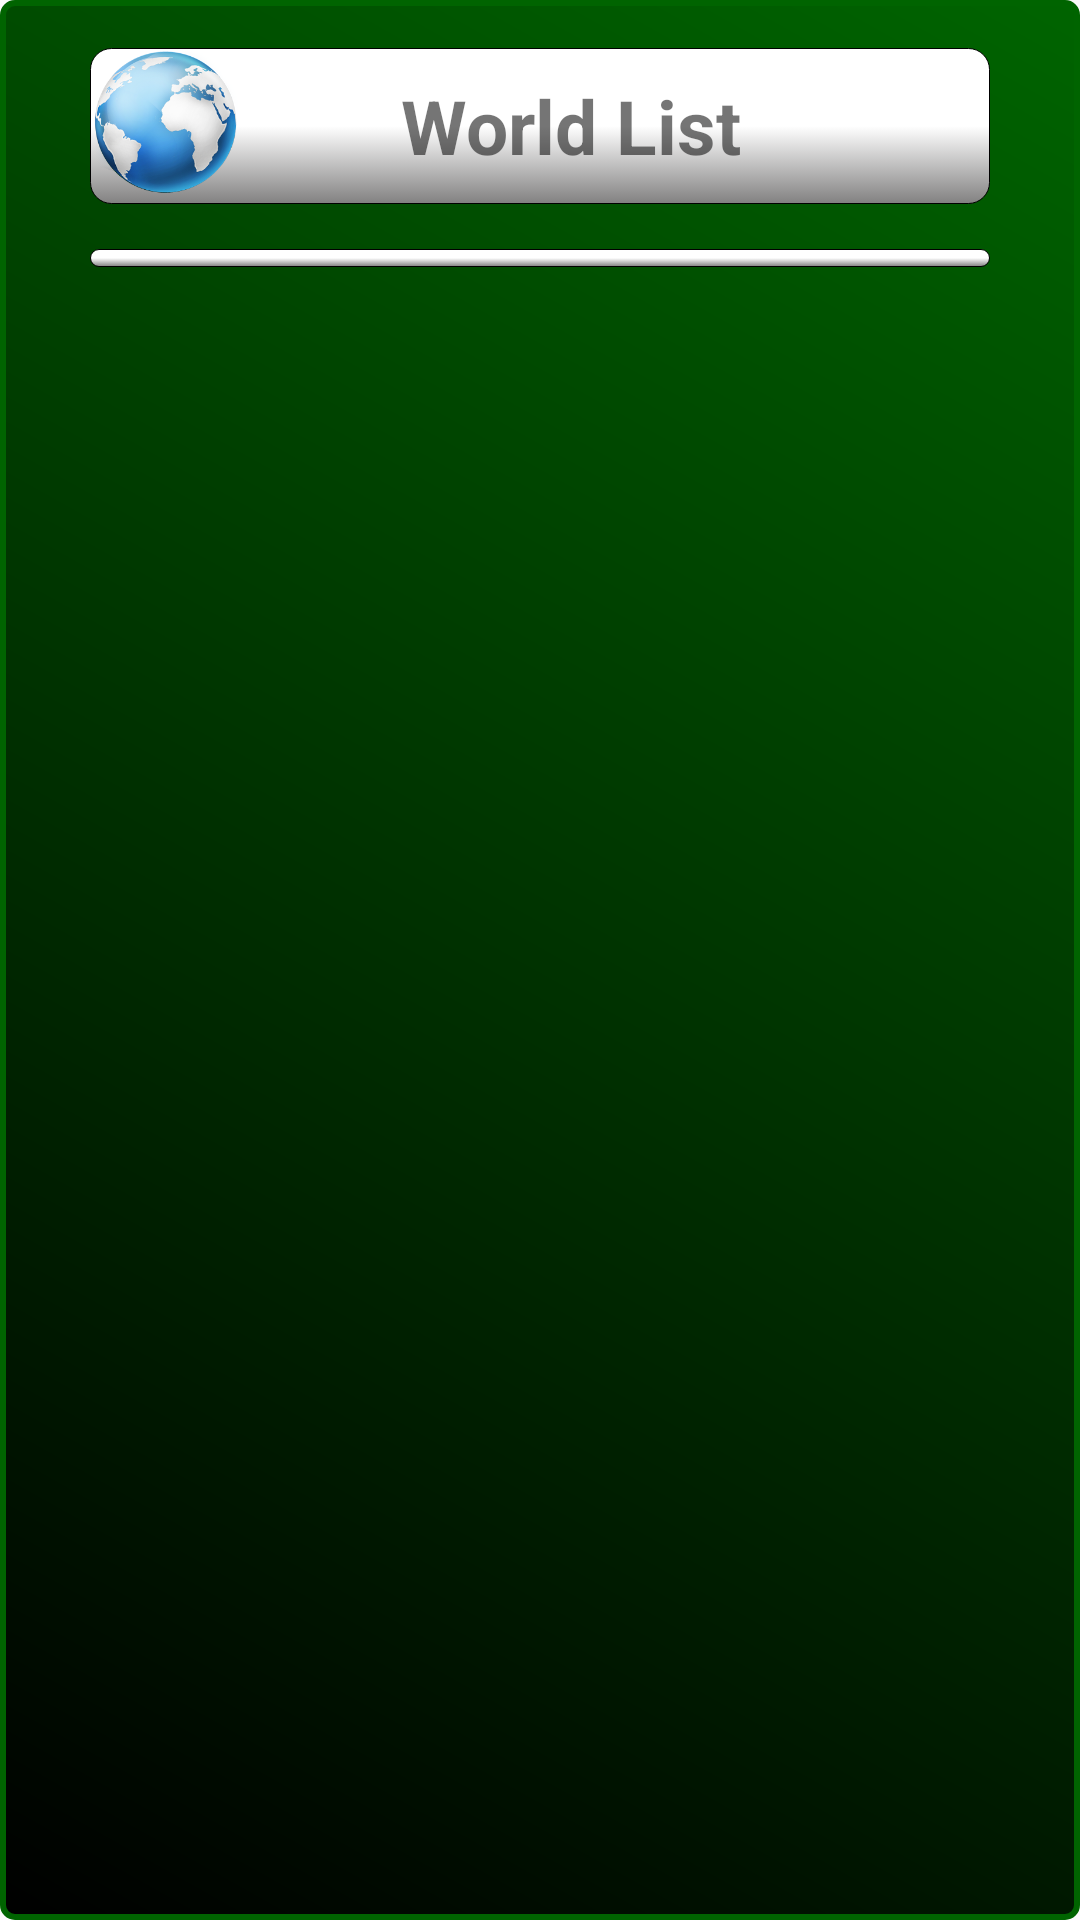

Point at icon controls on the screen. Image size 1080×1920, points as point (x, y).
globe: point (165, 123)
